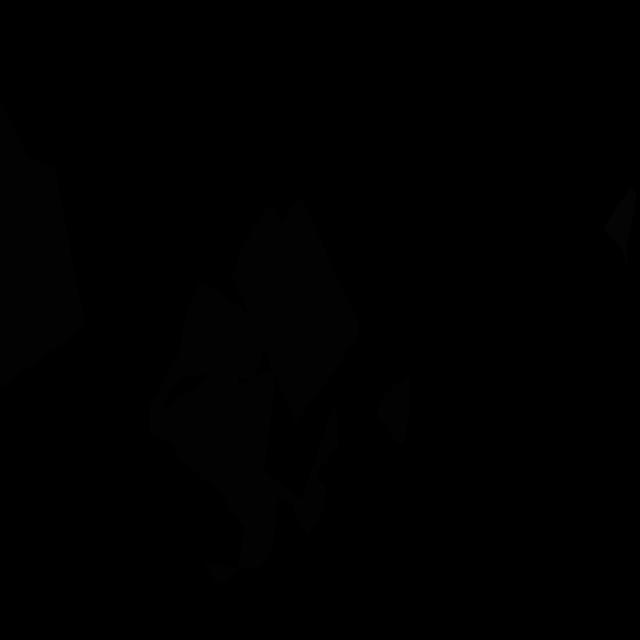cardboard: (203, 367, 338, 583), (232, 200, 360, 423), (0, 99, 86, 388), (148, 281, 263, 421), (148, 367, 239, 481), (376, 377, 410, 445)
soft_plastic: (603, 188, 636, 264)
